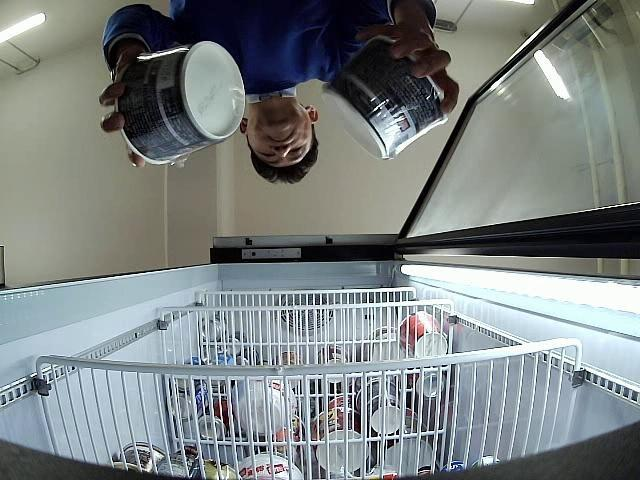07_buldak_L: (116, 40, 244, 163), (322, 38, 448, 158)
